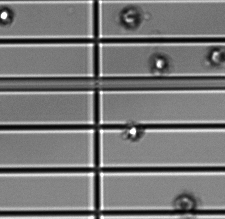Dead Cell: (119, 6, 144, 29), (175, 194, 196, 212)
Living Cell: (123, 122, 142, 141), (207, 46, 224, 65), (1, 6, 14, 26), (152, 55, 168, 71)
